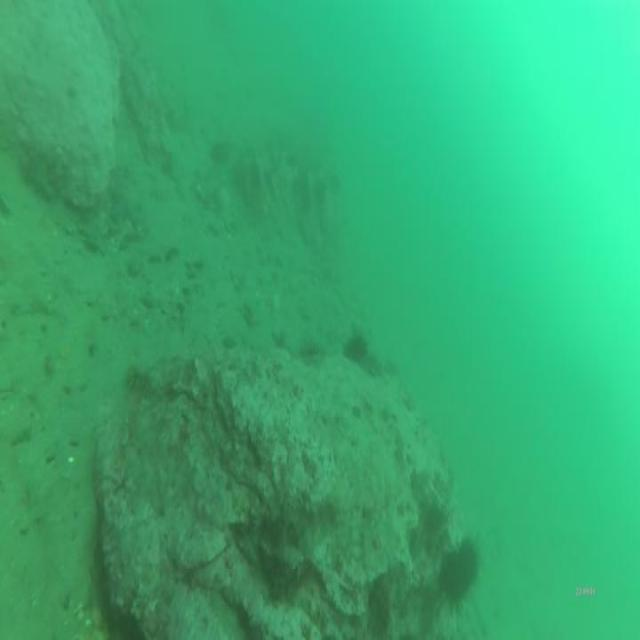echinus: (438, 542, 470, 613), (457, 532, 482, 596), (338, 328, 372, 369)
